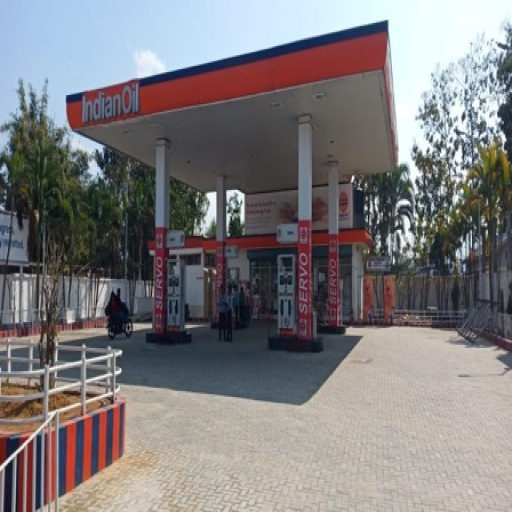roof: (67, 20, 401, 189)
